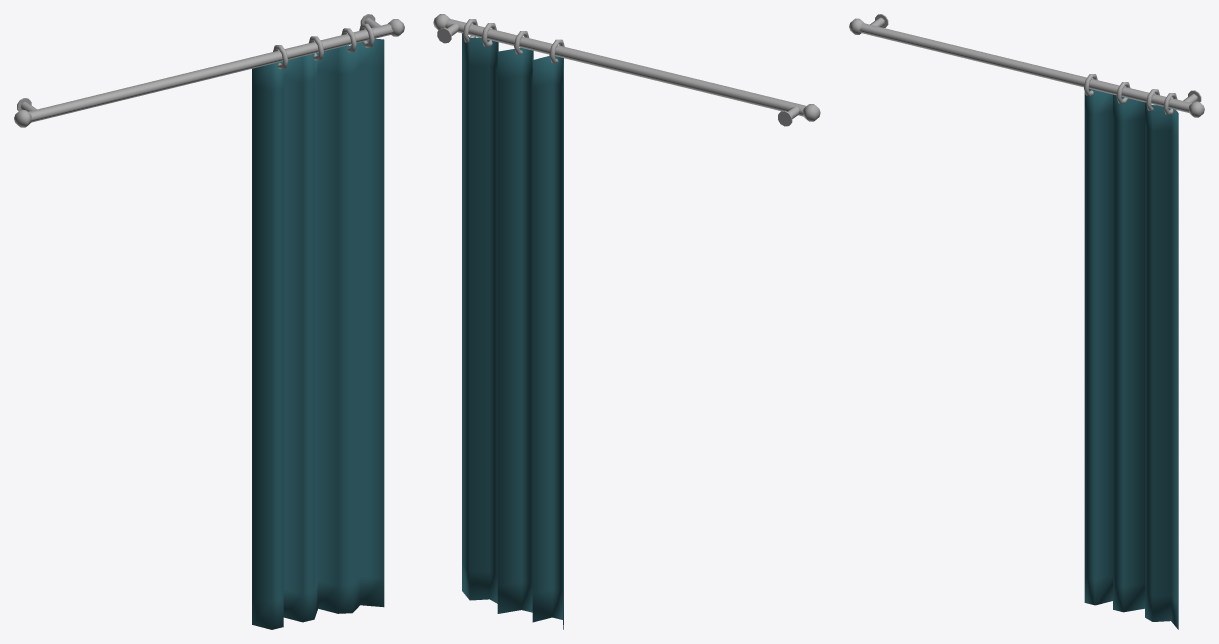
Rendered from Gordijn_Open.fbx.
3 views of the same model, side by side, from view 1: azimuth 30°, elevation 25°; view 2: azimuth 150°, elevation 25°; view 3: azimuth 330°, elevation 25° (orthographic). The views are drawn at different scales.
Parts seen in each view (by area): view 1: Plane.001, Cylinder.001; view 2: Plane.001, Cylinder.001; view 3: Plane.001, Cylinder.001.
Boxes of the visible parts, bbox=[...] form: Plane.001: bbox=[252, 38, 384, 629]; Cylinder.001: bbox=[14, 14, 404, 127]; Plane.001: bbox=[462, 33, 563, 629]; Cylinder.001: bbox=[433, 14, 820, 126]; Plane.001: bbox=[1084, 88, 1178, 629]; Cylinder.001: bbox=[849, 14, 1204, 117].
Bounding box in the file's own units: 97.31 × 140 × 8.79.
